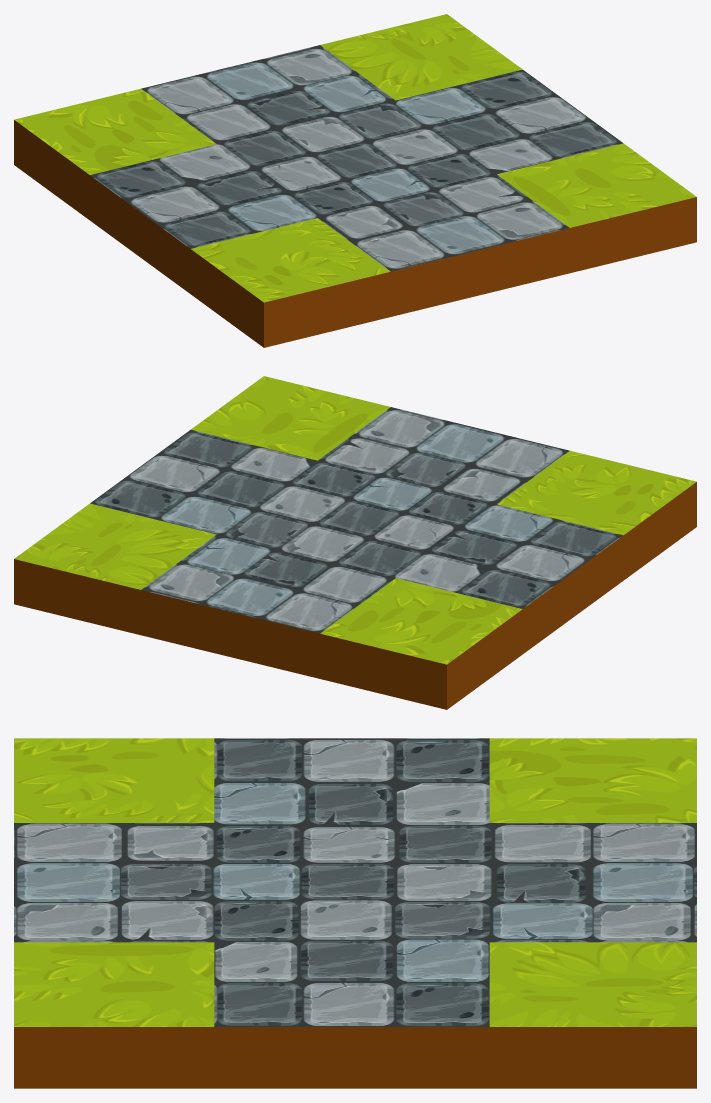
File: tile0002.gltf
The picture shows the model from 3 angles, top to bottom: view 1: azimuth 30°, elevation 25°; view 2: azimuth 150°, elevation 25°; view 3: azimuth 270°, elevation 25°; orthographic projection. The views are drawn at different scales.
Visible parts, largest first — view 1: Cube; view 2: Cube; view 3: Cube.
Boxes of the visible parts, x1,y1,x2,y2 form: Cube: (14,14,696,347); Cube: (14,376,696,709); Cube: (14,738,696,1088).
Bounding box in the file's own units: 2 × 0.2 × 2.
Materials: 3 (2 with a texture image).
